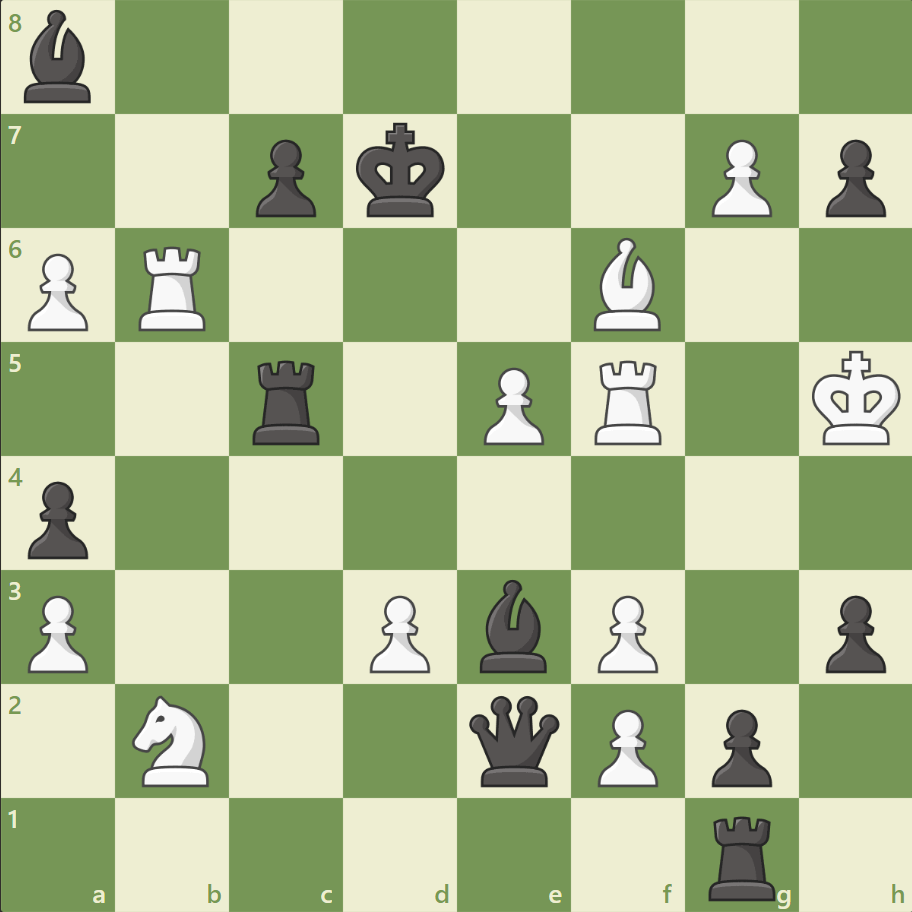B: (585, 233, 669, 336)
K: (806, 344, 906, 452)
N: (124, 688, 222, 791)
P: (701, 132, 776, 223), (20, 246, 95, 337), (474, 359, 549, 450), (20, 586, 95, 677), (361, 586, 435, 677), (588, 586, 662, 677), (588, 700, 662, 791)
R: (587, 352, 670, 449), (133, 239, 215, 336)
b: (17, 6, 101, 109), (471, 574, 555, 676)
k: (351, 117, 451, 225)
p: (247, 132, 322, 223), (20, 473, 95, 564), (701, 700, 776, 791), (815, 132, 889, 223), (815, 586, 889, 677)
q: (464, 690, 563, 789)
r: (700, 806, 783, 904), (246, 352, 329, 449)
